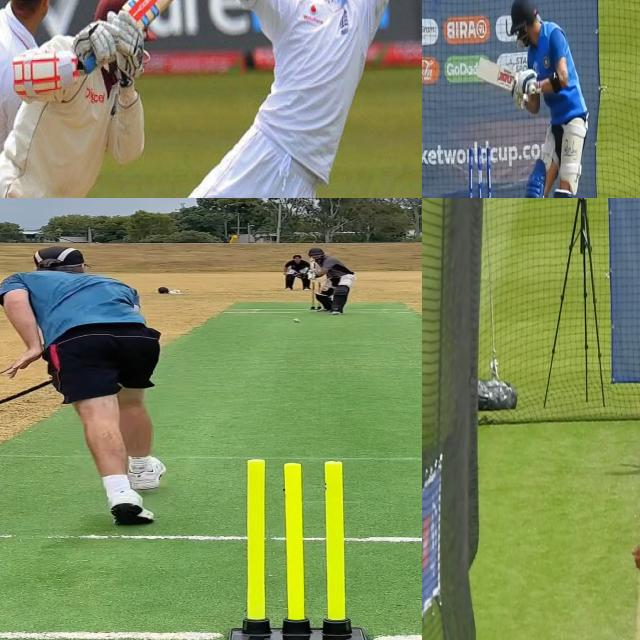Cricket ball: (291, 317, 303, 324)
Stumps: (220, 454, 372, 640), (463, 144, 496, 198), (311, 282, 325, 309)
